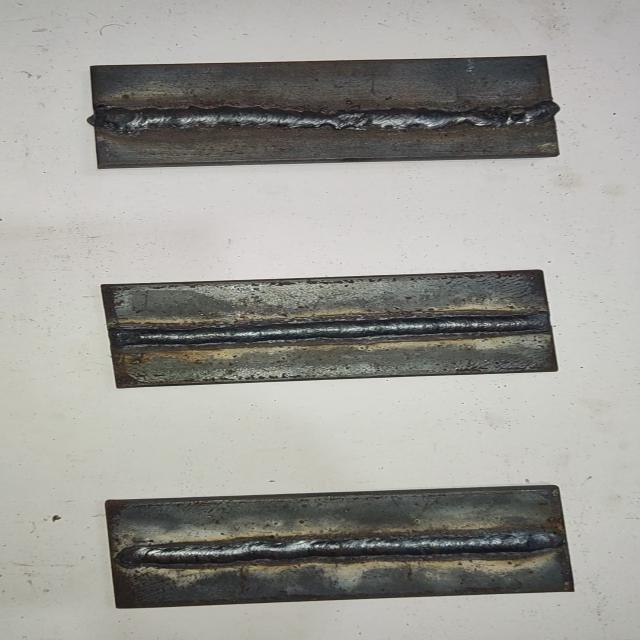Defect: (473, 100, 546, 135)
Welding Line: (119, 530, 562, 568), (117, 312, 544, 348), (98, 102, 553, 132)
Workpiece: (97, 480, 578, 612), (78, 50, 570, 174), (91, 268, 565, 396)
